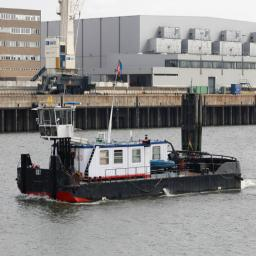tugboat: (15, 56, 246, 208)
